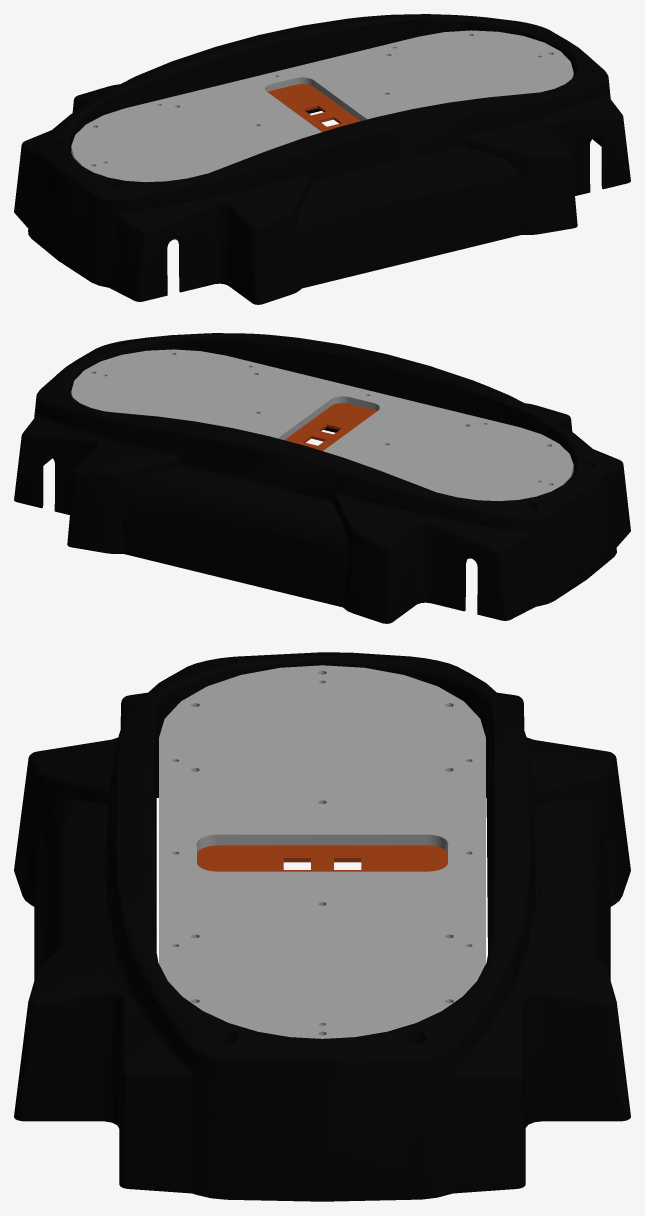
File: YoubotPlatform.dae
The picture shows the model from 3 angles, top to bottom: view 1: azimuth 30°, elevation 25°; view 2: azimuth 150°, elevation 25°; view 3: azimuth 270°, elevation 25°; orthographic projection. The views are drawn at different scales.
Parts seen in each view (by area): view 1: base_frame; view 2: base_frame; view 3: base_frame.
Part boxes in pixels (box(x1,y1,x2,y2)): base_frame: box(14, 14, 630, 304); base_frame: box(14, 333, 630, 623); base_frame: box(14, 652, 630, 1201).
Size of the model in its own units: 0.5701 by 0.3571 by 0.122.
